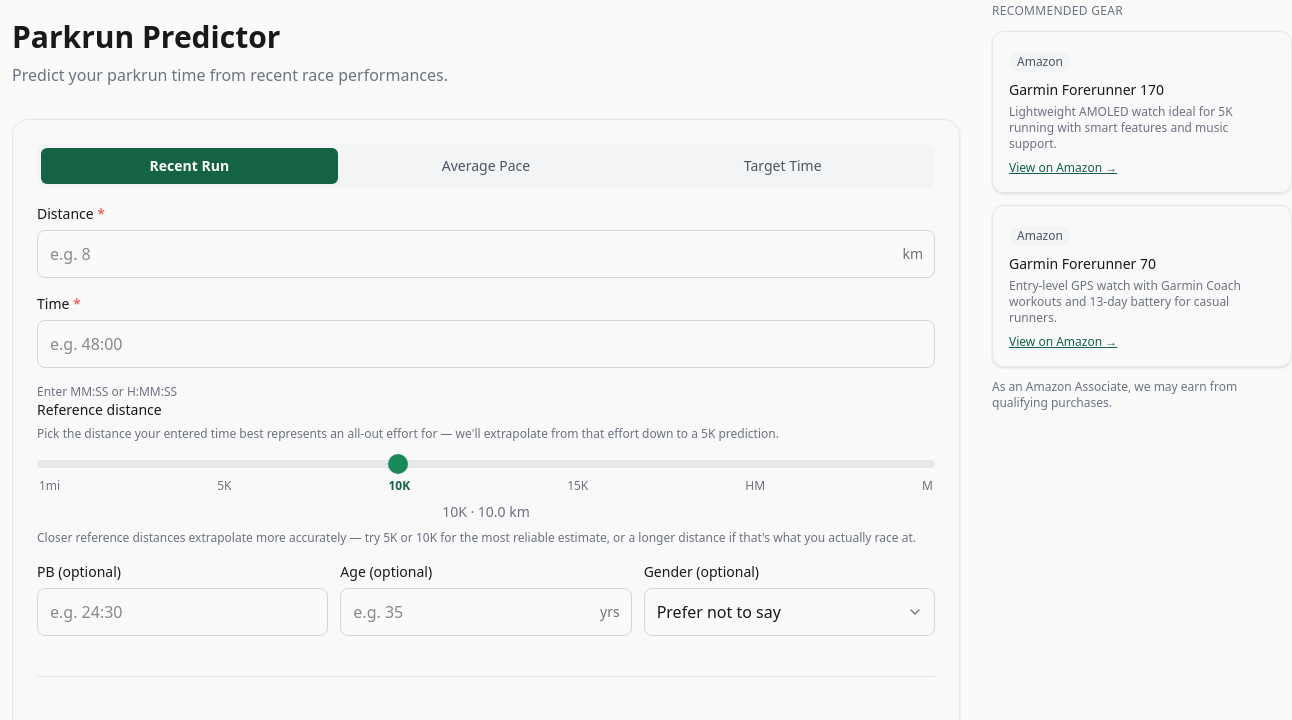
Parkrun page › shows PB comparison when PB entered (AC8)
In the field labelled "Distance *": (486, 254) [37,230,935,278], type "8"
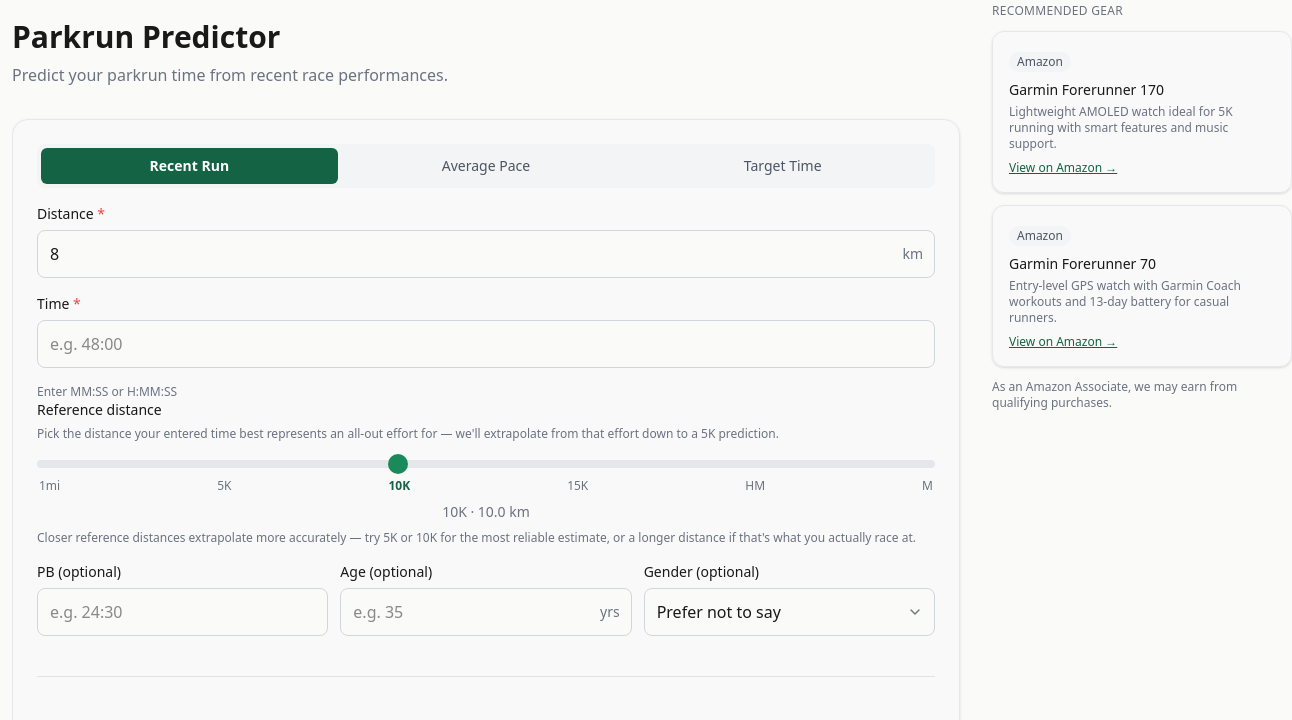
In the field labelled "Time *": (486, 344) [37,320,935,368], type "48:00"
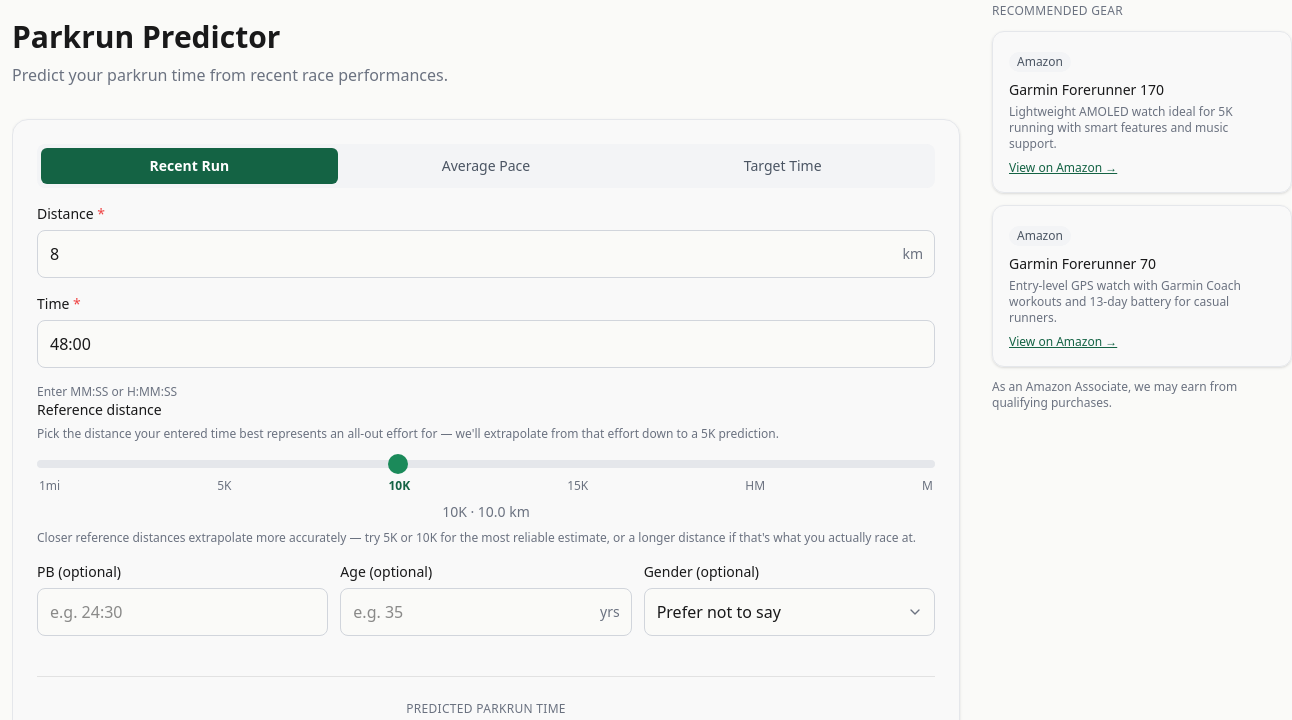
In the field labelled "PB (optional)": (183, 612) [37,588,328,636], type "24:30"
(page scrolled)
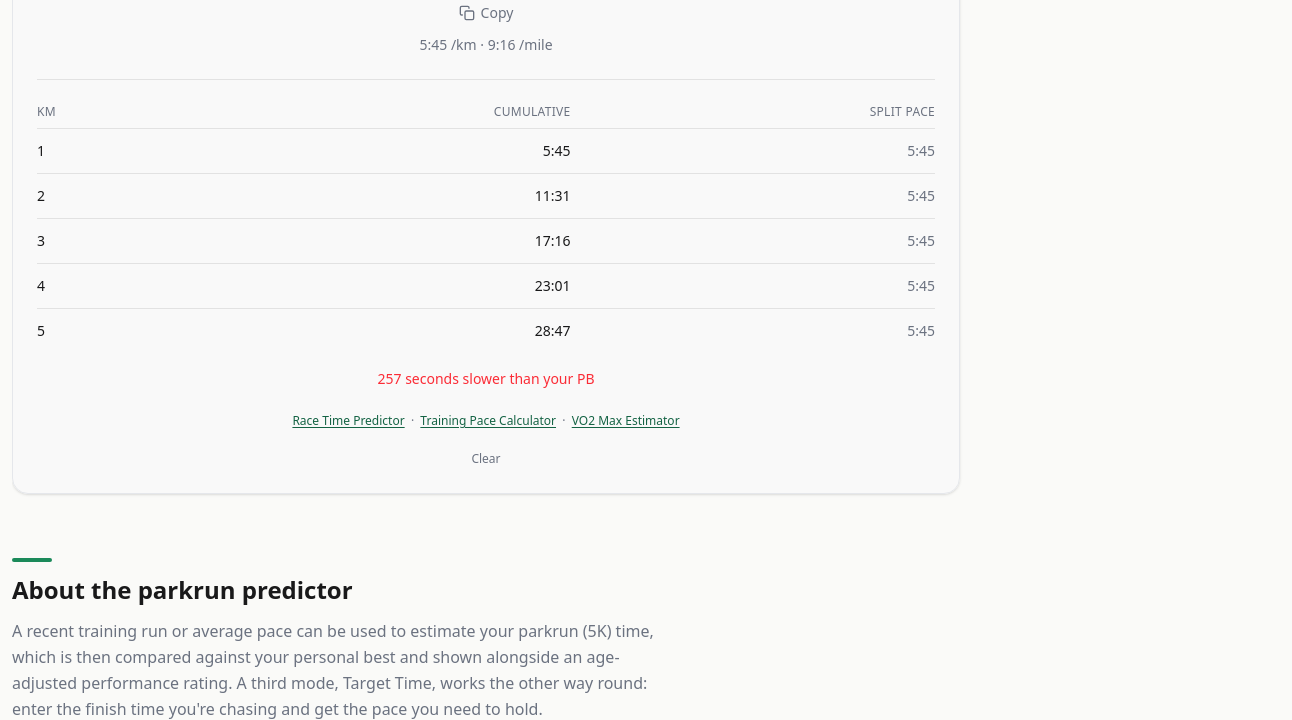
Expected: the text "257 seconds slower than your PB" is shown, [378,369,594,388]
